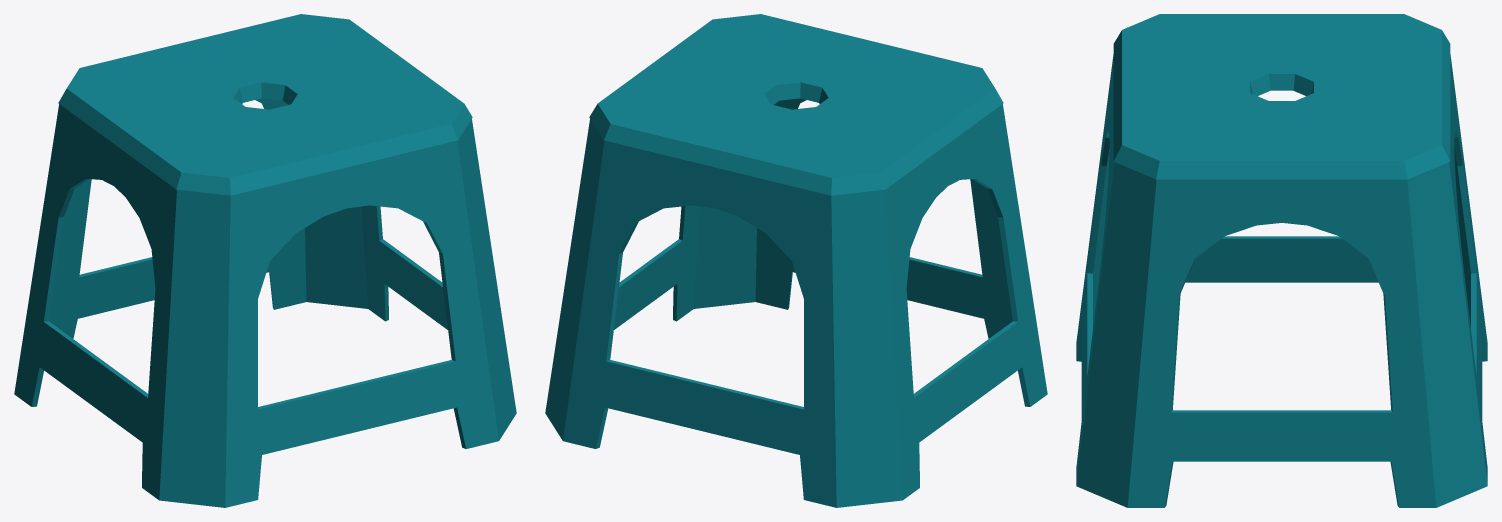
The model's file is SM_Furniture_StoolLow_Cyan_01.obj.
3 views of the same model, side by side, from view 1: azimuth 30°, elevation 25°; view 2: azimuth 150°, elevation 25°; view 3: azimuth 270°, elevation 25° (orthographic). The views are drawn at different scales.
Parts seen in each view (by area): view 1: SM_Furniture_StoolLow_Cyan_01; view 2: SM_Furniture_StoolLow_Cyan_01; view 3: SM_Furniture_StoolLow_Cyan_01.
Boxes of the visible parts, x1=… form: SM_Furniture_StoolLow_Cyan_01: x1=14, y1=14, x2=516, y2=507; SM_Furniture_StoolLow_Cyan_01: x1=545, y1=14, x2=1047, y2=507; SM_Furniture_StoolLow_Cyan_01: x1=1076, y1=14, x2=1487, y2=507.
Bounding box in the file's own units: 0.316 × 0.26 × 0.296.
Materials: 1 (1 with a texture image).
